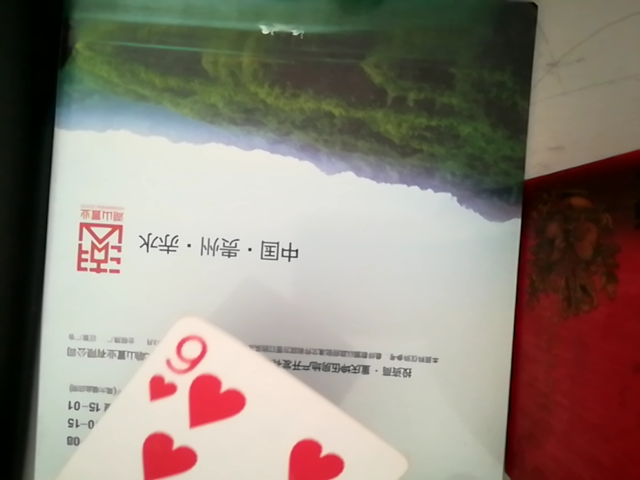hx 9: (31, 319, 455, 478)
